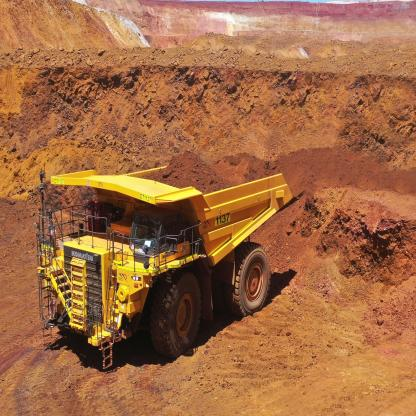dump_truck: (27, 143, 294, 355)
